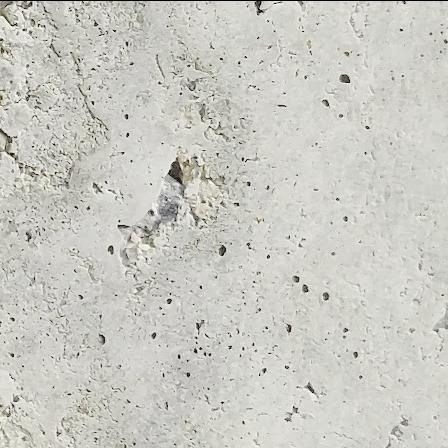crack: (45, 36, 116, 148), (0, 124, 82, 195)
spalling: (93, 140, 239, 298)
